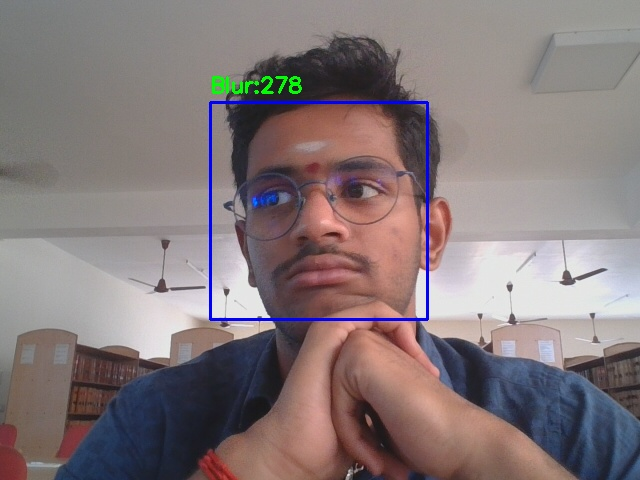real: (210, 102, 427, 319)
